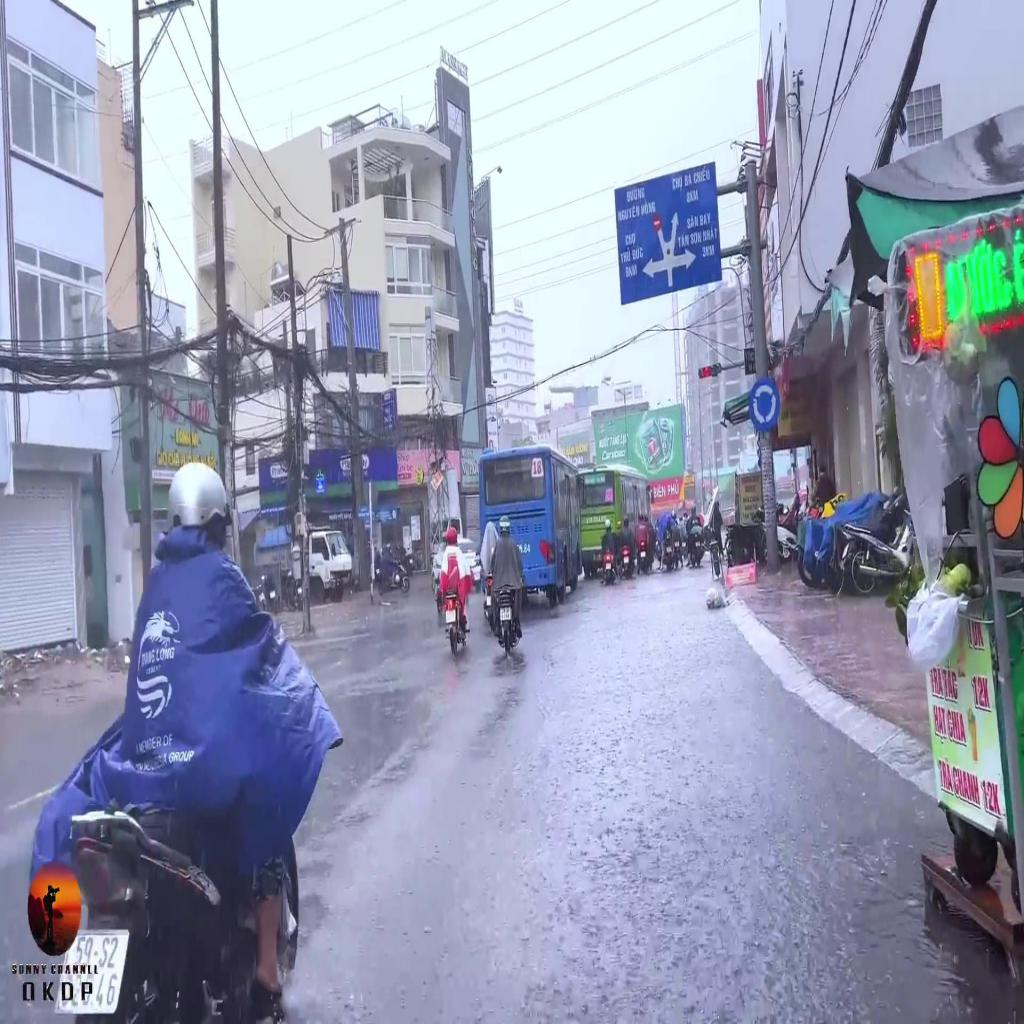khac: (613, 162, 721, 304)
noi_giao_nhau_chay_theo_vong: (748, 378, 779, 434)
